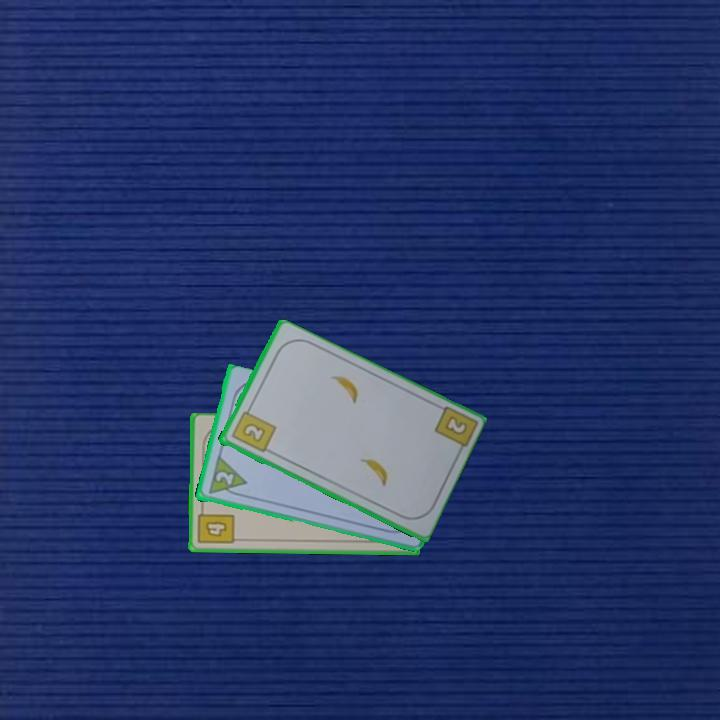2b: (228, 403, 278, 455), (441, 412, 470, 438)
2p: (212, 468, 236, 488)
4b: (195, 503, 237, 547)
